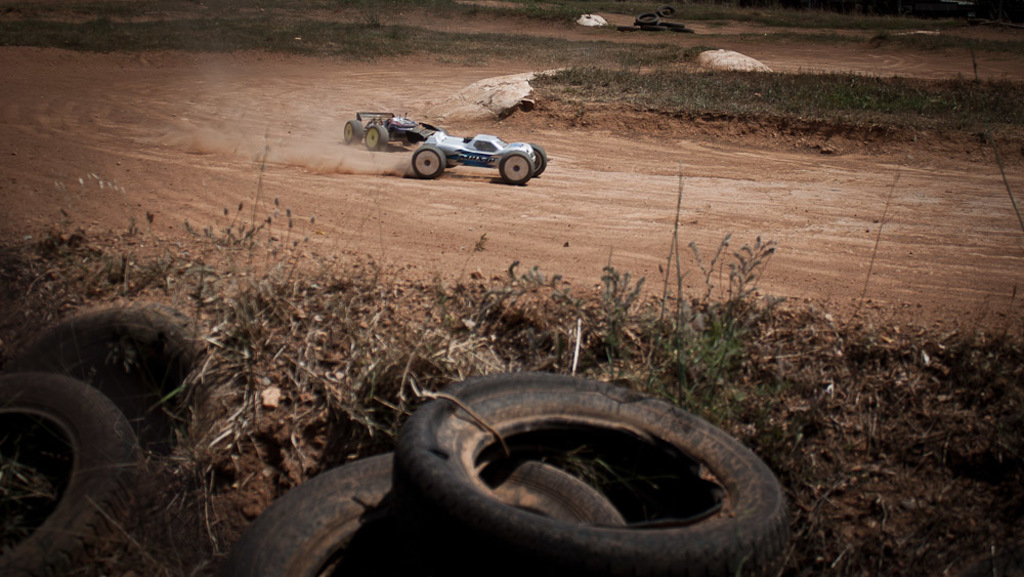Car: (404, 129, 548, 183), (343, 109, 440, 148)
